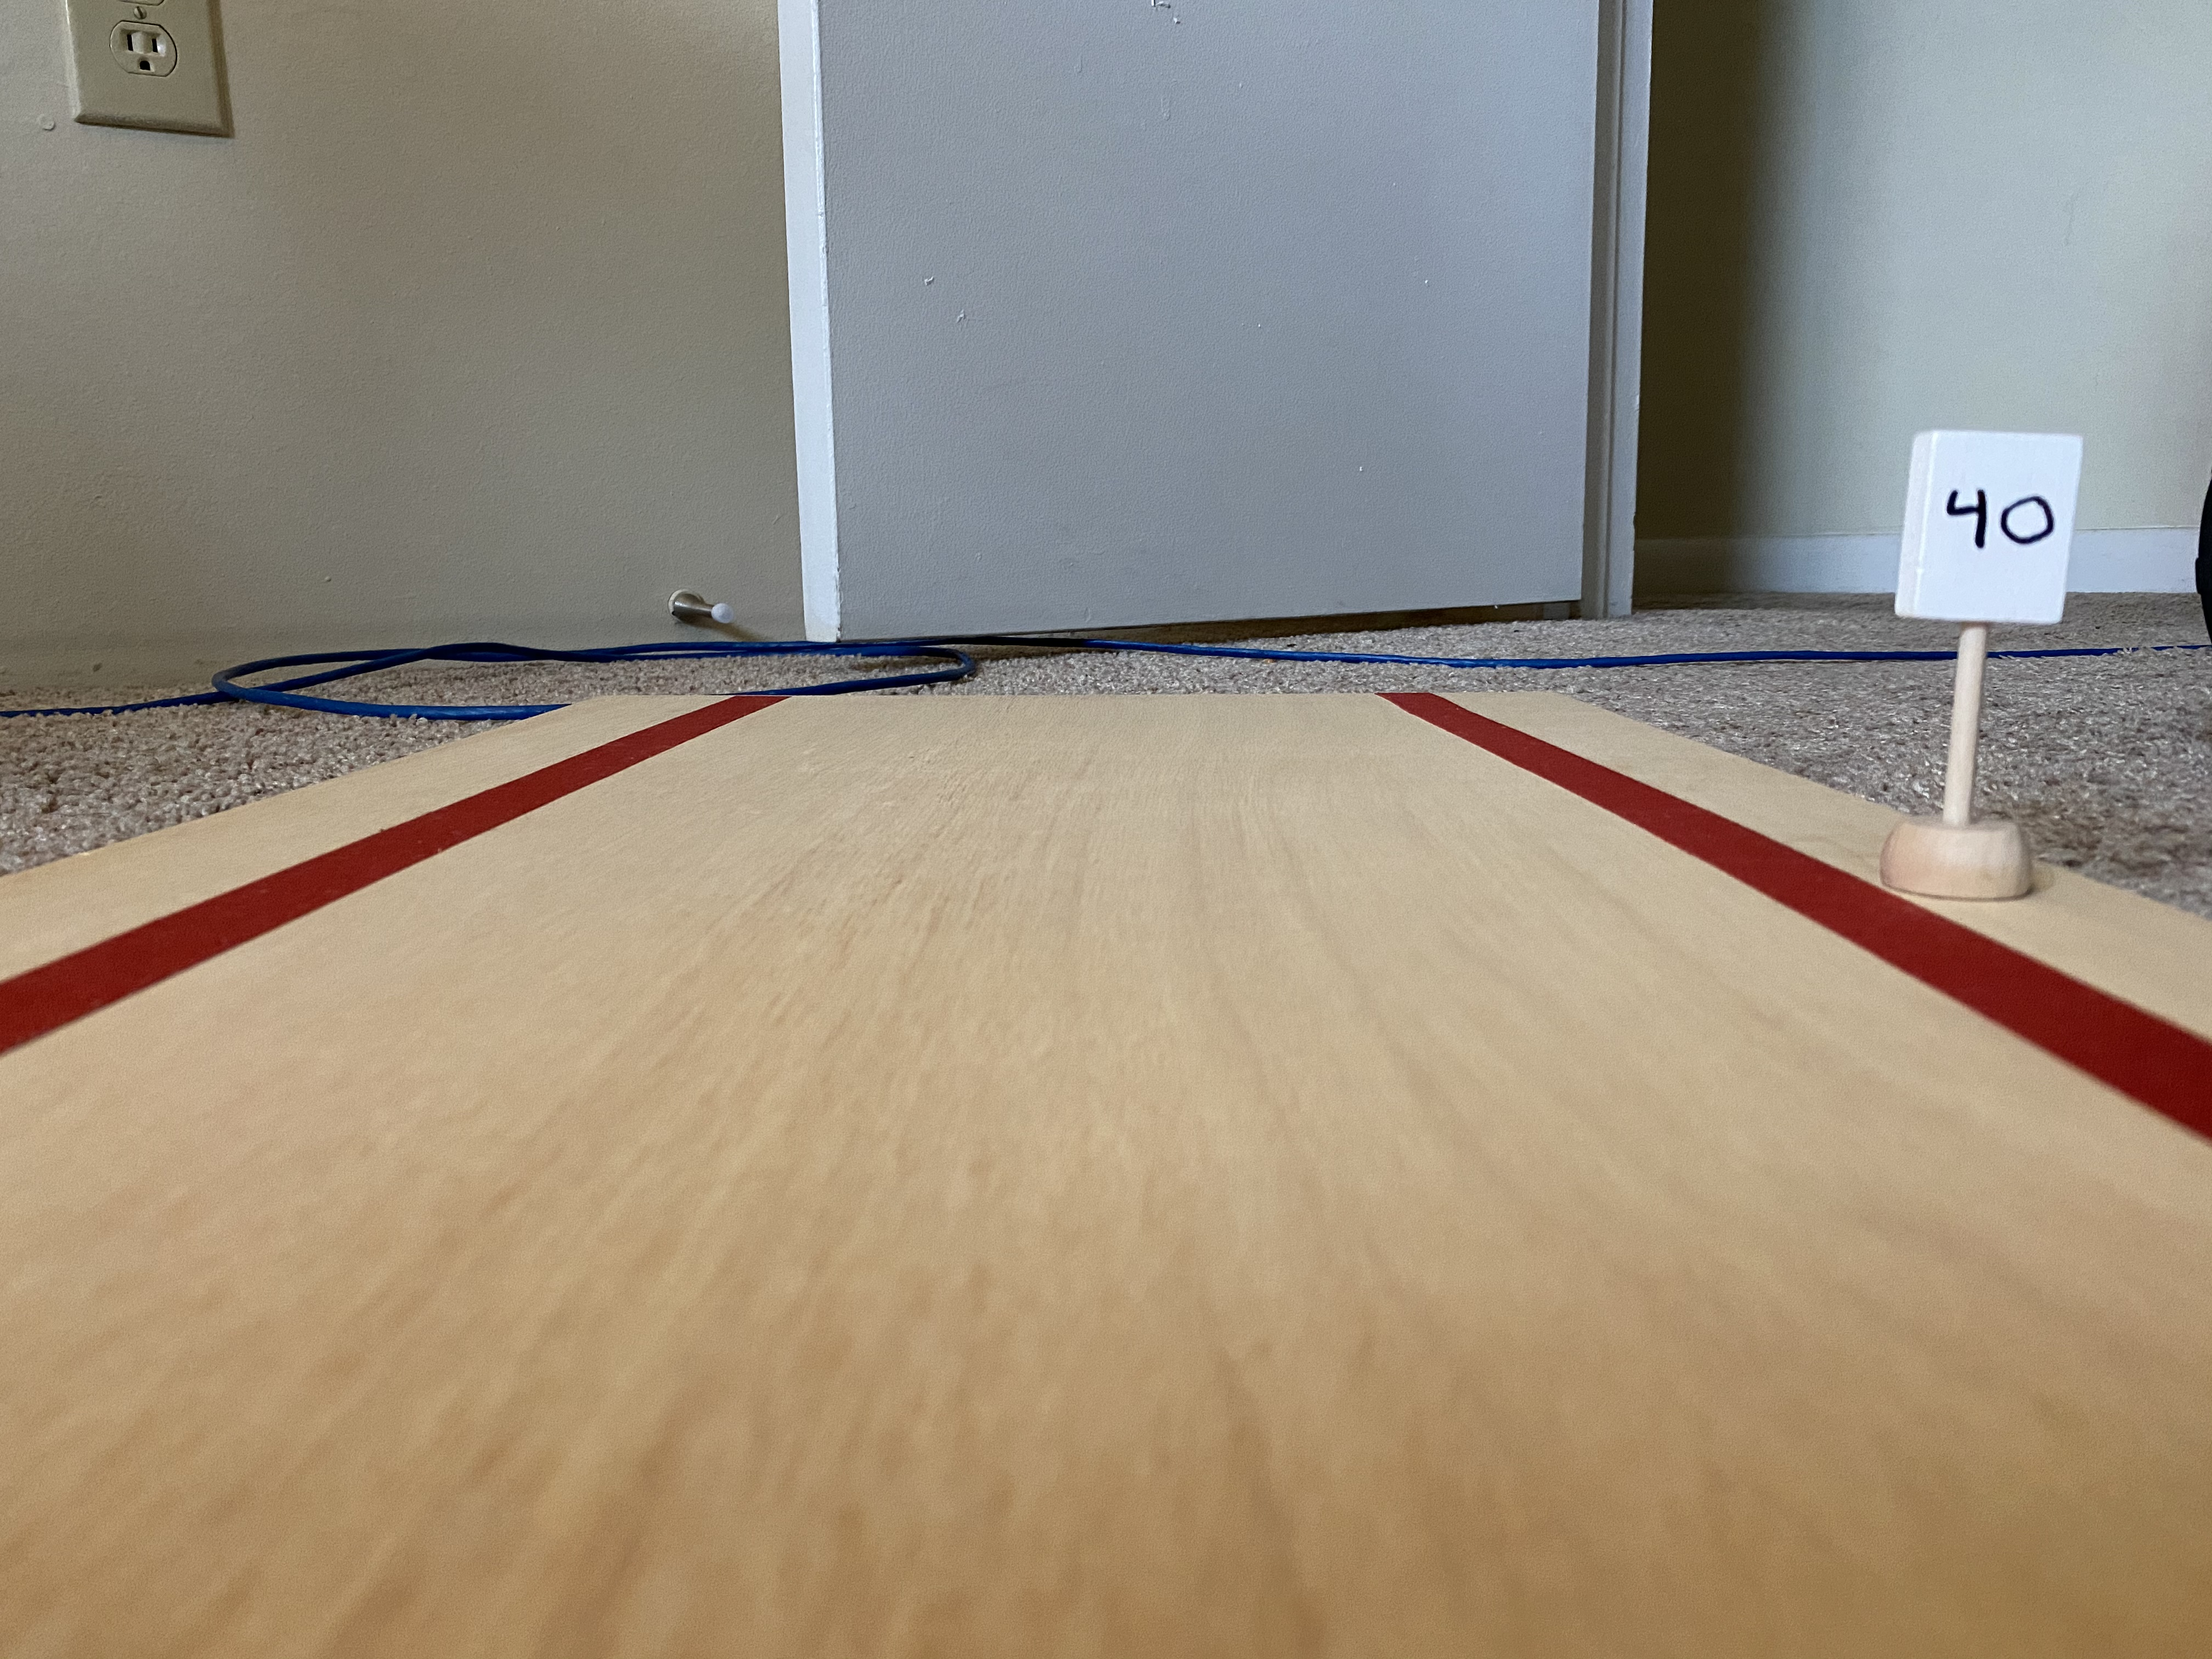Speed Limit 40: (1905, 422, 2076, 619)
